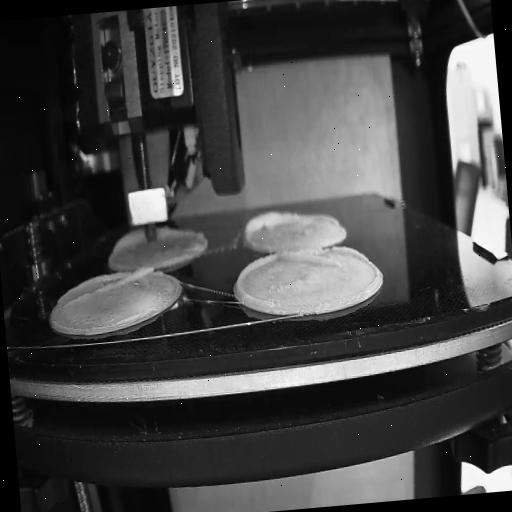over_extrusion: (64, 267, 161, 309), (280, 242, 370, 278), (234, 256, 282, 309), (240, 210, 300, 240), (111, 228, 148, 252), (158, 226, 194, 241), (312, 213, 338, 229)
